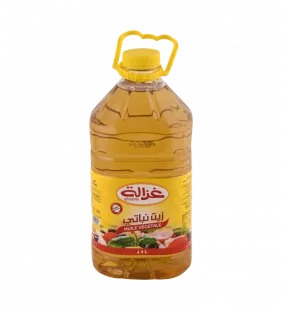GHAZELA: (83, 20, 204, 284)
